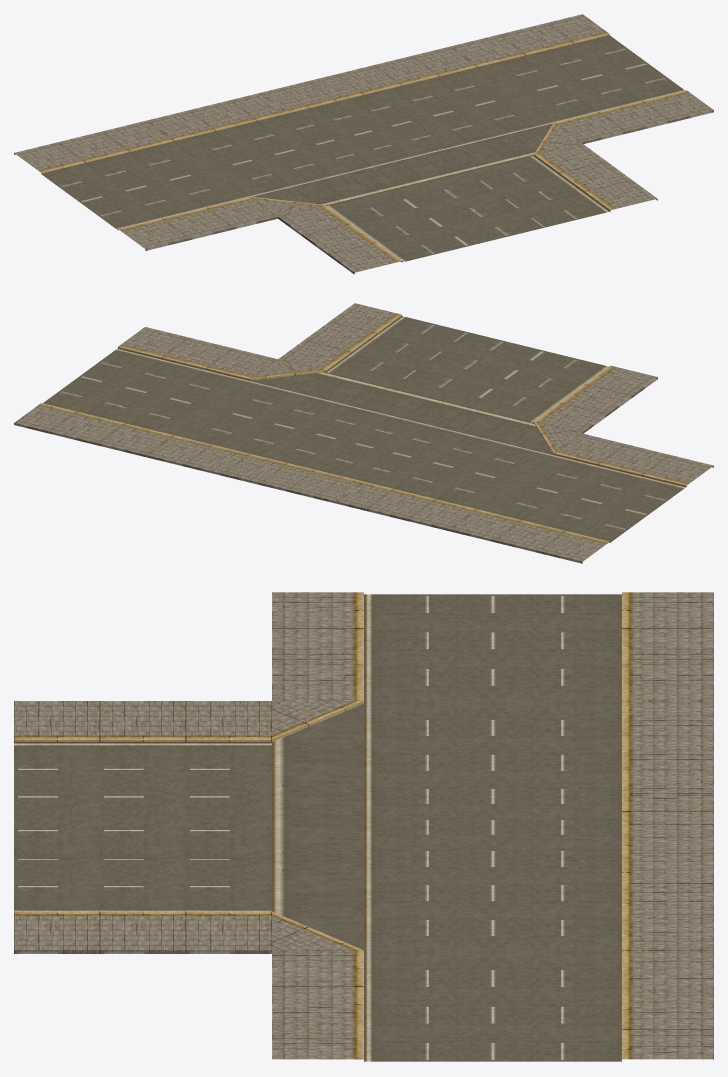
Rendered from Road2_Part_04_A.fbx.
3 views of the same model, one above another, from view 1: azimuth 30°, elevation 25°; view 2: azimuth 150°, elevation 25°; view 3: azimuth 270°, elevation 25° (orthographic). The views are drawn at different scales.
Parts seen in each view (by area): view 1: Road_Part_09; view 2: Road_Part_09; view 3: Road_Part_09.
Part boxes in pixels (box(x1,y1,x2,y2)): Road_Part_09: box(14, 14, 713, 274); Road_Part_09: box(14, 303, 713, 563); Road_Part_09: box(14, 592, 713, 1061).
Size of the model in its own units: 2362 by 8.4 by 1496.
